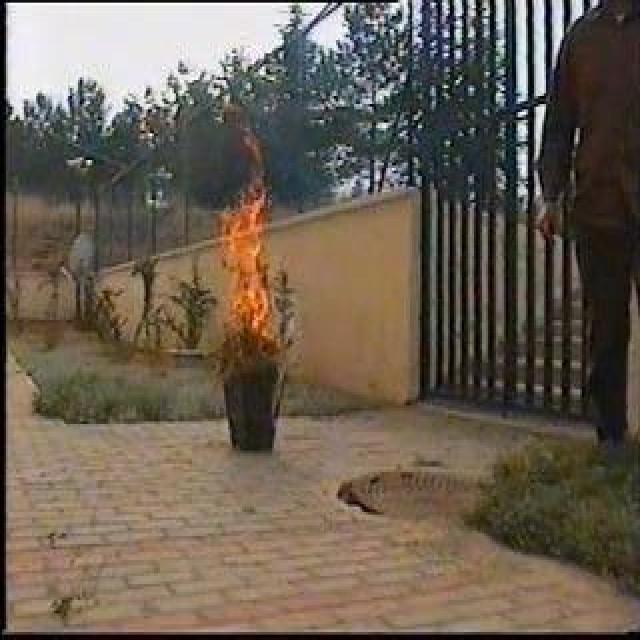fire: (220, 137, 276, 346)
